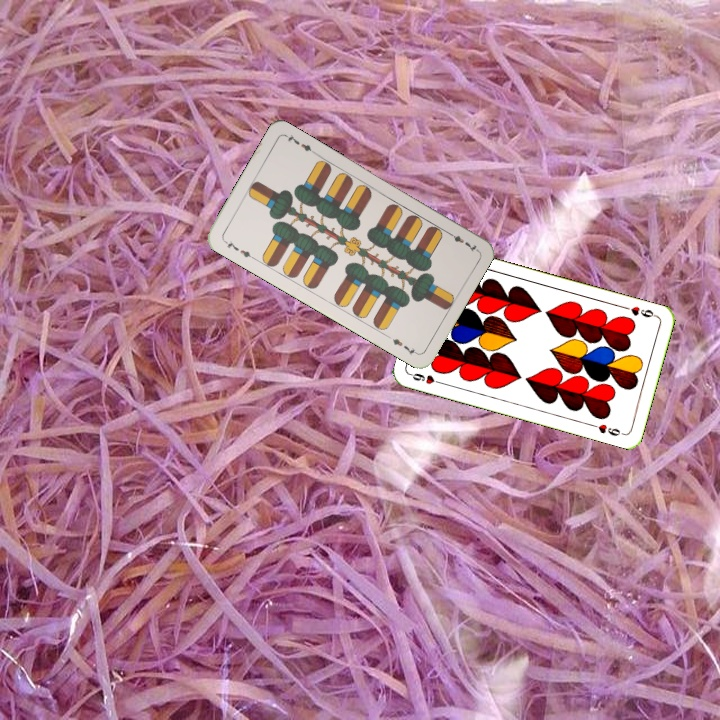E7: (443, 227, 480, 255), (219, 236, 257, 262)
H9: (619, 302, 659, 320), (405, 369, 445, 387)
